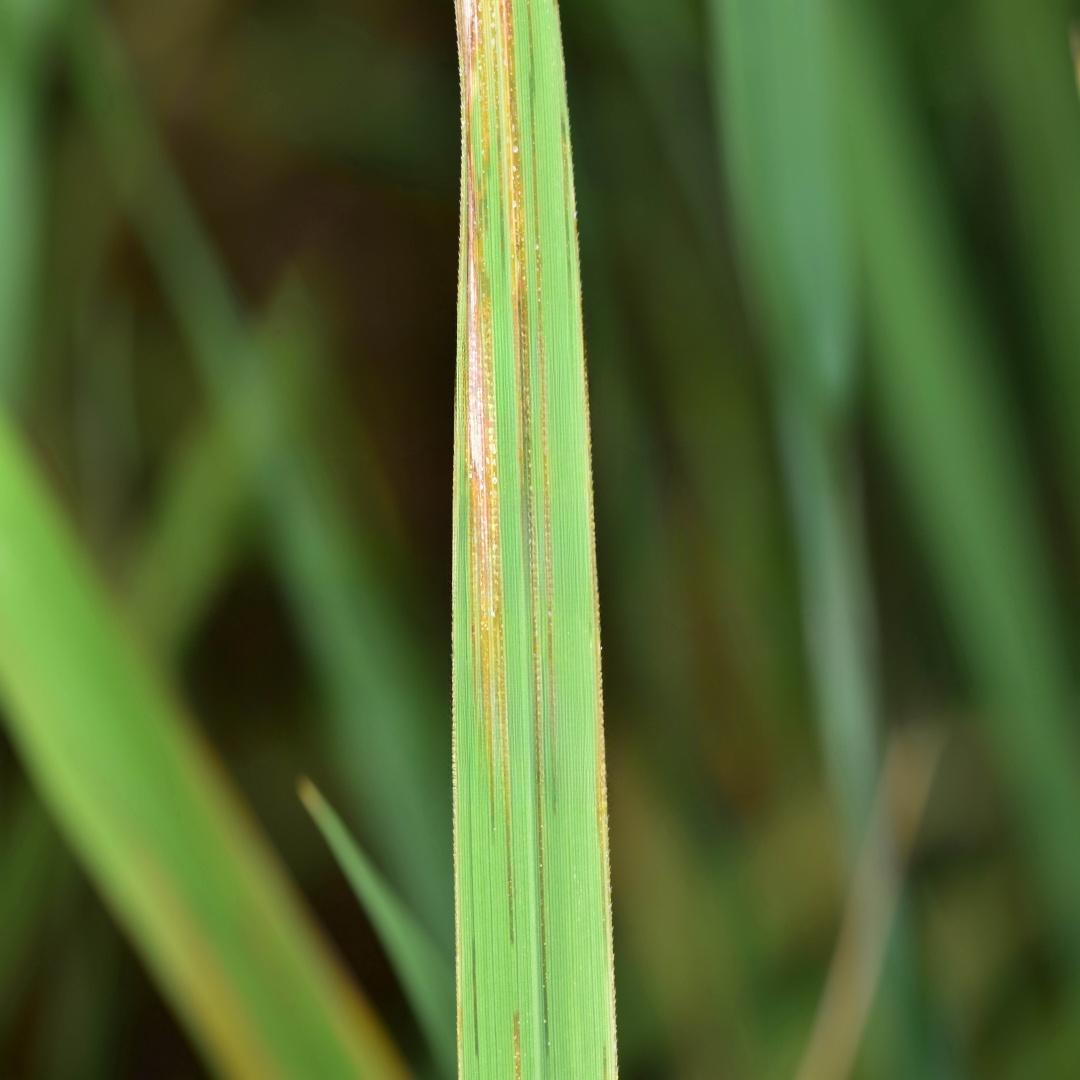BLS: (455, 0, 551, 1057), (525, 0, 554, 816), (579, 285, 610, 960), (469, 785, 480, 1060), (561, 113, 571, 338), (513, 1013, 521, 1079), (603, 1040, 608, 1079)
